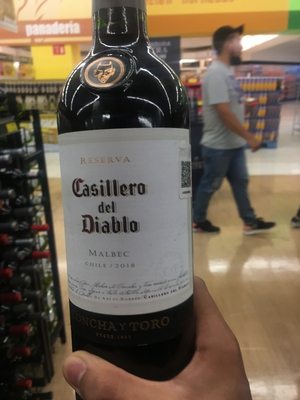casillero del diablo malbec: (51, 14, 210, 397)
